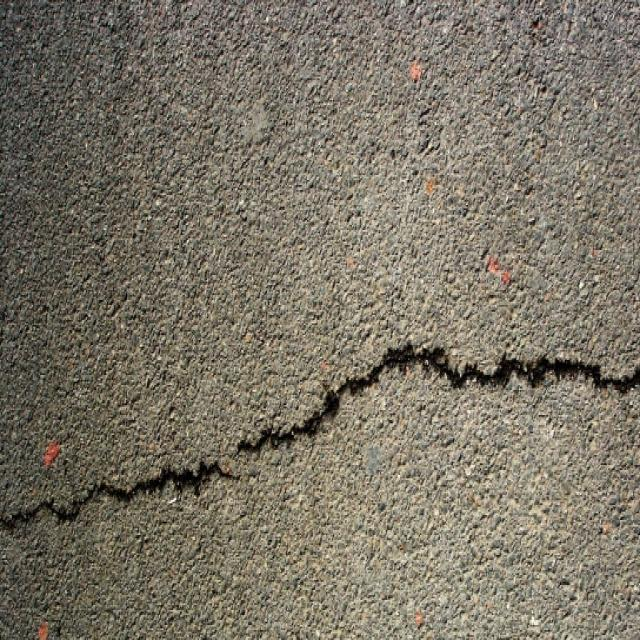crack: (1, 336, 638, 540)
